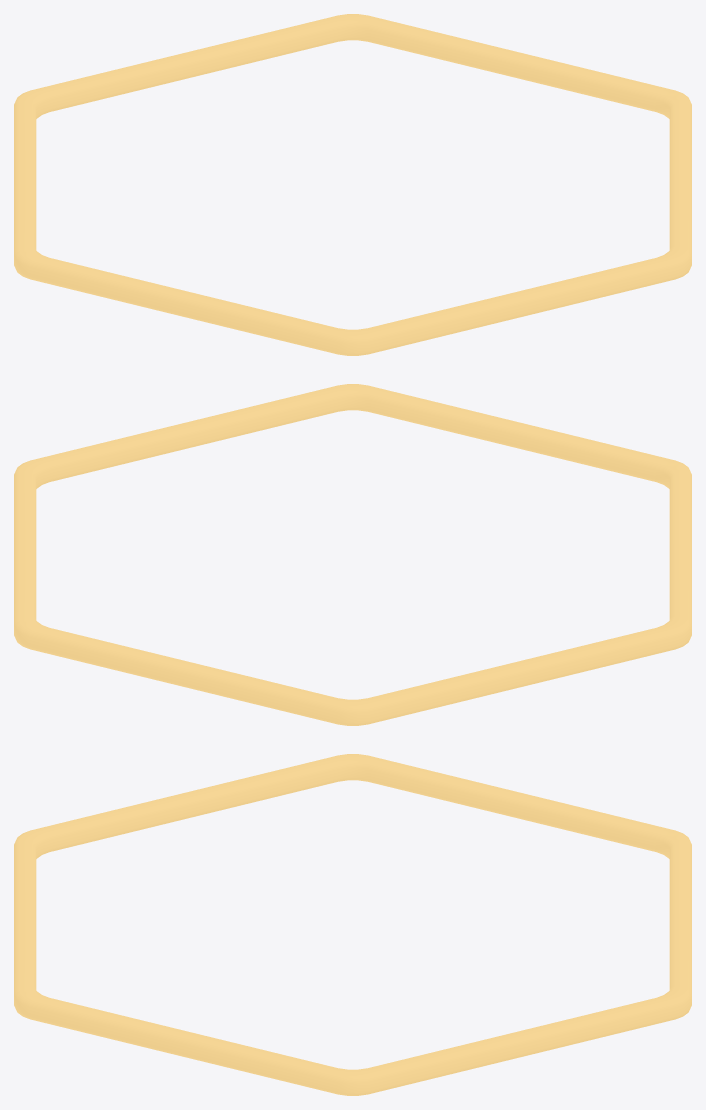
Rendered from TileHighlightRing.glb.
3 views of the same model, one above another, from view 1: azimuth 30°, elevation 25°; view 2: azimuth 150°, elevation 25°; view 3: azimuth 270°, elevation 25° (orthographic).
Parts seen in each view (by area): view 1: Ring Type 3; view 2: Ring Type 3; view 3: Ring Type 3.
Boxes of the visible parts, box(x1,y1,x2,y2) form: Ring Type 3: box(14, 14, 691, 355); Ring Type 3: box(14, 384, 691, 725); Ring Type 3: box(14, 754, 691, 1095).
Size of the model in its own units: 1.95 by 0.0559 by 1.71.
